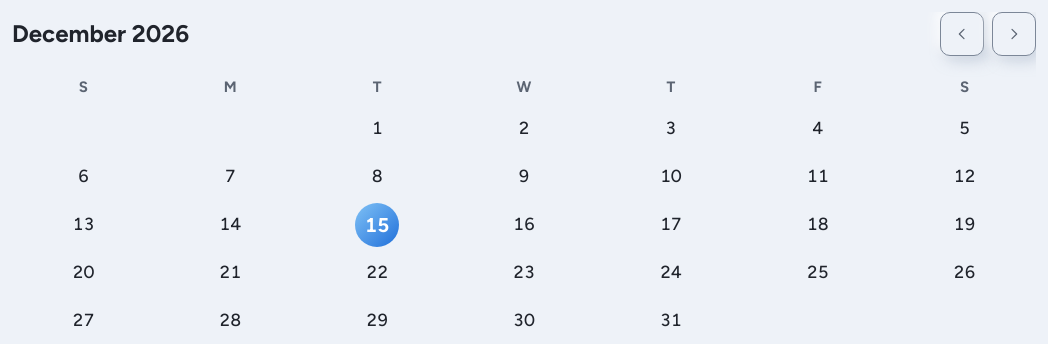
Scenario: MiniMonth › December -> January rolls the year forward
Click the button named "Next month": coordinates (1014, 34) [992, 12, 1036, 56]
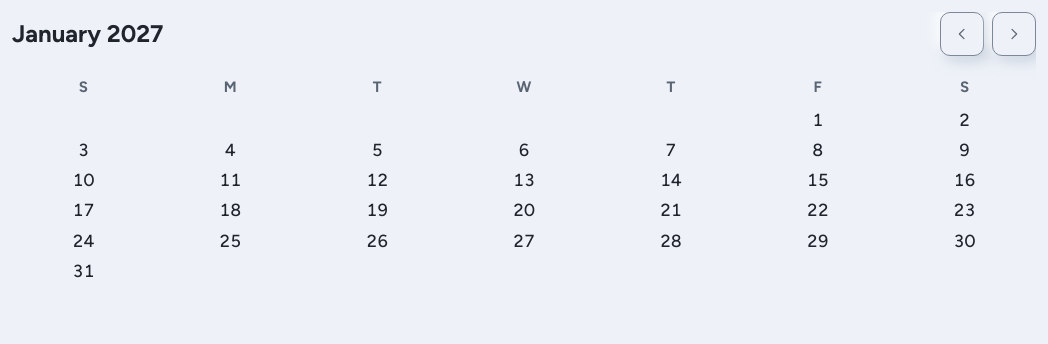
Expected: the text "January 2027" is shown, [12, 16, 164, 52]
